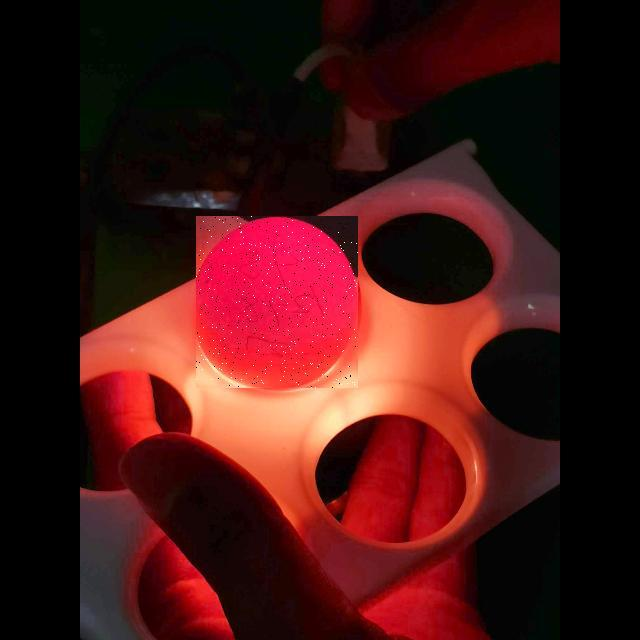Infertile: (196, 216, 358, 388)
